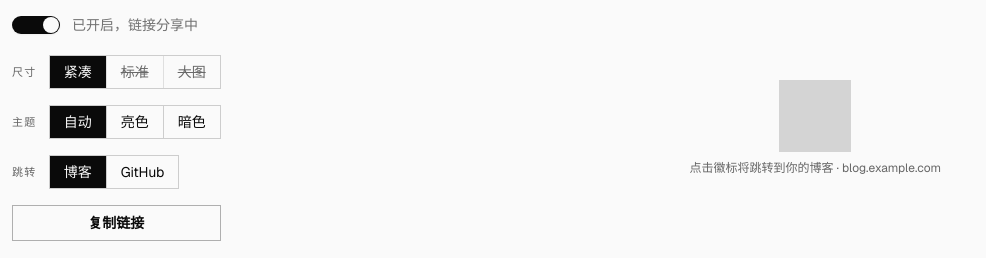
Test: BadgeSection › reports the github gap when github is the chosen target and unset
Click the button "GitHub" at (142, 172), box [106,156,178,188]
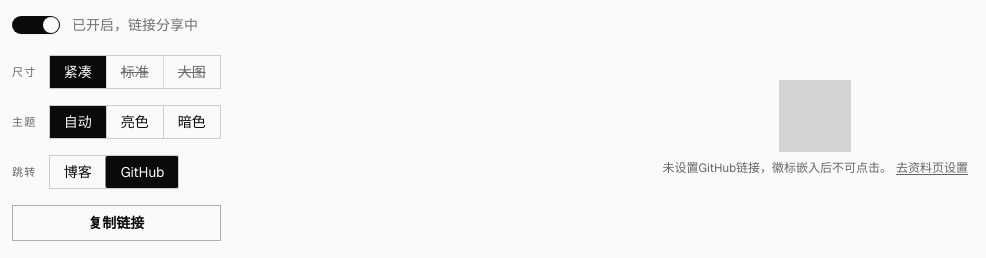
expect the element with test id "badge-caption" shows "未设置GitHub链接，徽标嵌入后不可点击": met, box [662,160,968,176]
